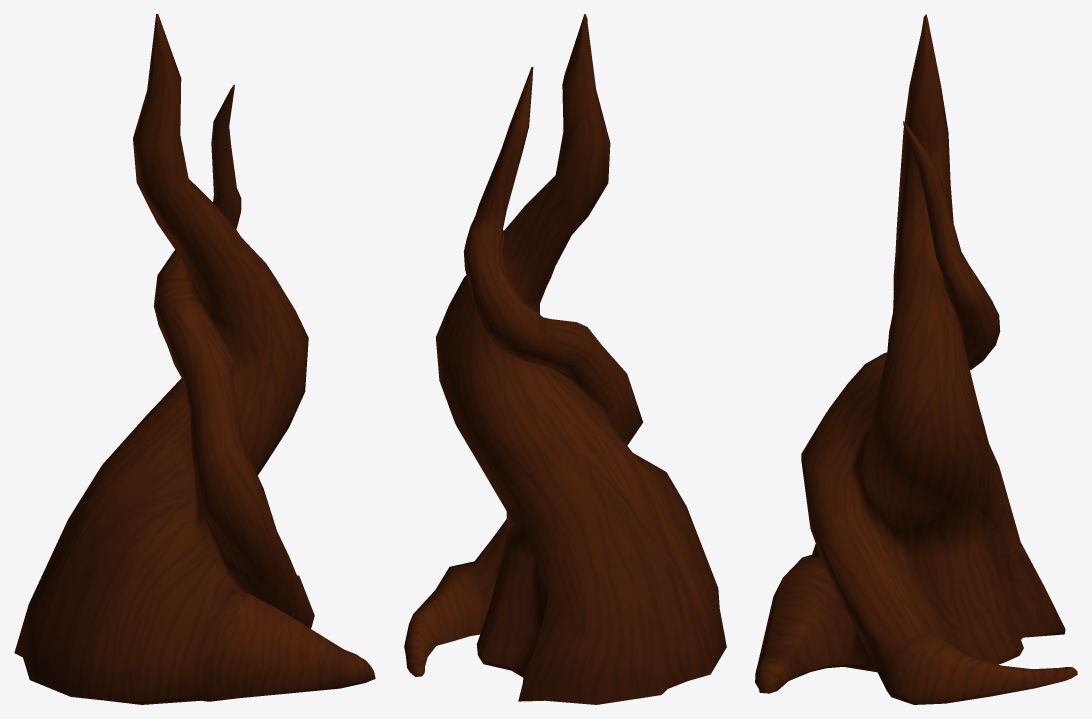
File: Tree_01_Base.fbx
3 renders of one model, left to right at view 1: azimuth 30°, elevation 25°; view 2: azimuth 150°, elevation 25°; view 3: azimuth 270°, elevation 25°, orthographic. The views are drawn at different scales.
Parts seen in each view (by area): view 1: polySurface1; view 2: polySurface1; view 3: polySurface1.
Part boxes in pixels (x1=…): polySurface1: x1=14, y1=14, x2=375, y2=704; polySurface1: x1=404, y1=14, x2=726, y2=704; polySurface1: x1=755, y1=14, x2=1077, y2=704.
Size of the model in its own units: 466 by 1027 by 483.
